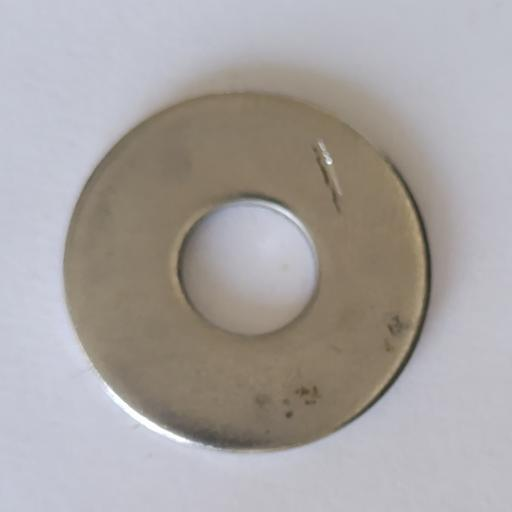scratch: (313, 139, 343, 215)
